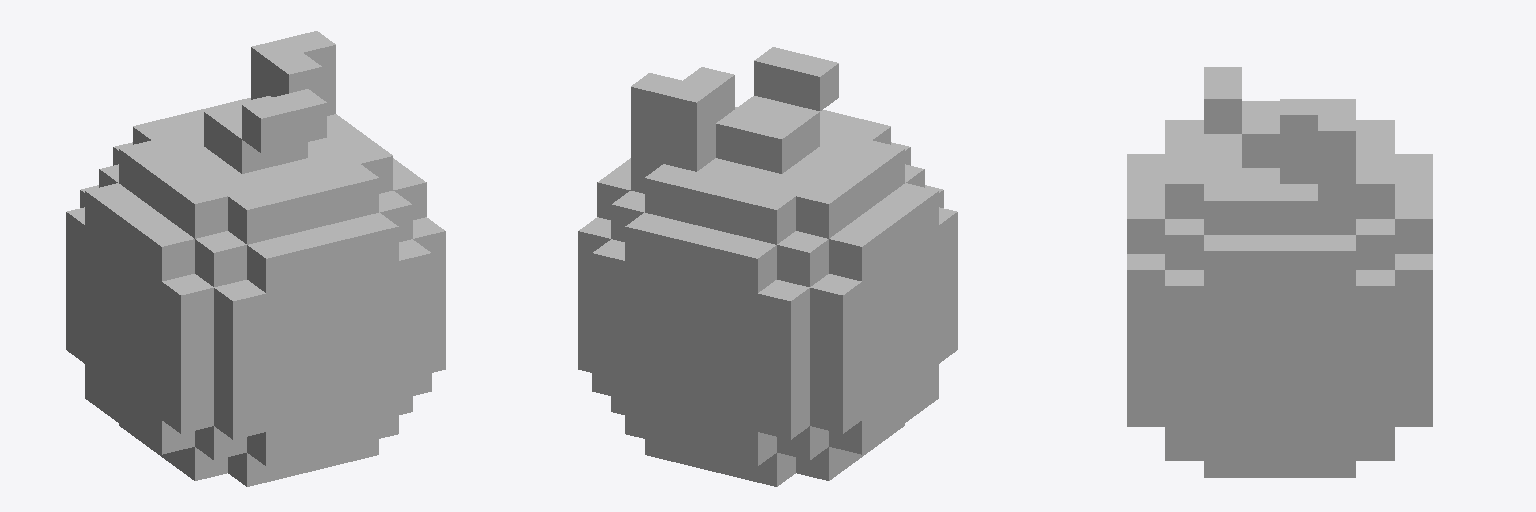
File: Apple.obj
3 views of the same model, side by side, from view 1: azimuth 30°, elevation 25°; view 2: azimuth 150°, elevation 25°; view 3: azimuth 270°, elevation 25° (orthographic).
Visible parts, largest first — view 1: object 1; view 2: object 1; view 3: object 1.
Boxes of the visible parts, box(x1,y1,x2,y2) form: object 1: box(66, 31, 445, 486); object 1: box(578, 47, 957, 486); object 1: box(1127, 67, 1432, 477).
Size of the model in its own units: 0.8 by 1 by 0.8.